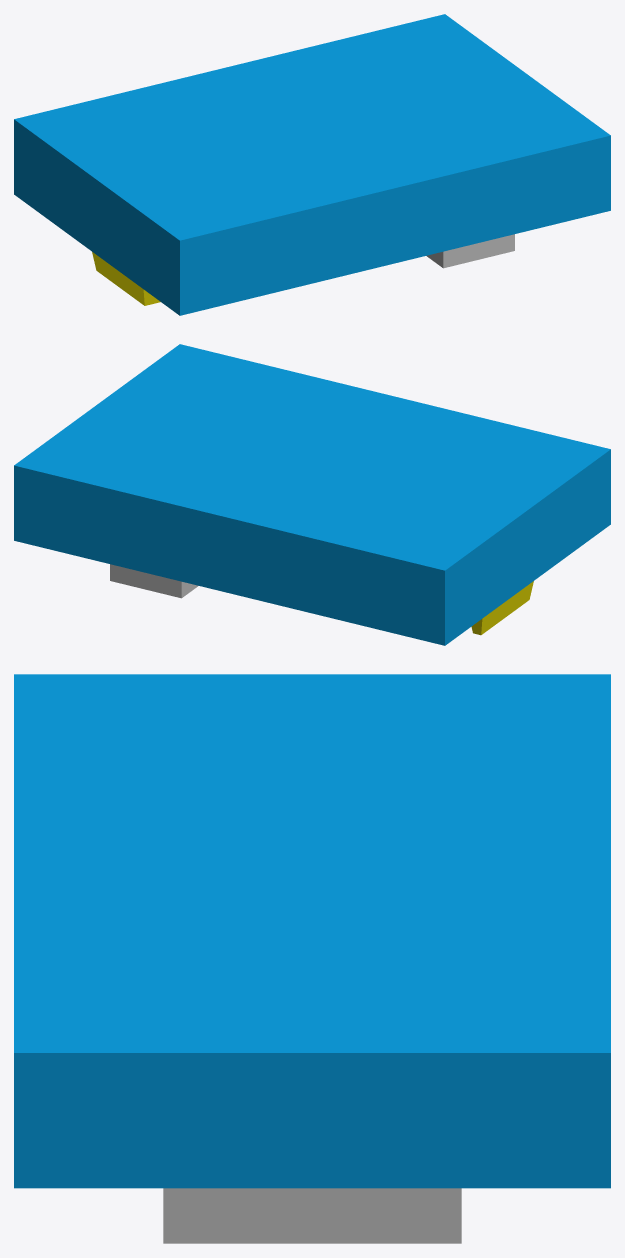
File: putStone.obj
The picture shows the model from 3 angles, top to bottom: view 1: azimuth 30°, elevation 25°; view 2: azimuth 150°, elevation 25°; view 3: azimuth 270°, elevation 25°; orthographic projection. The views are drawn at different scales.
Visible parts, largest first — view 1: Object.1, Object.4, Object.6; view 2: Object.1, Object.4, Object.6; view 3: Object.1, Object.4.
Part boxes in pixels (bbox=[...]): Object.1: bbox=[14, 14, 610, 315]; Object.4: bbox=[426, 234, 514, 268]; Object.6: bbox=[92, 252, 160, 305]; Object.1: bbox=[14, 344, 610, 645]; Object.4: bbox=[110, 564, 198, 598]; Object.6: bbox=[471, 581, 533, 635]; Object.1: bbox=[14, 674, 610, 1188]; Object.4: bbox=[163, 1188, 461, 1243].
Size of the model in its own units: 0.06 by 0.0176 by 0.04.
